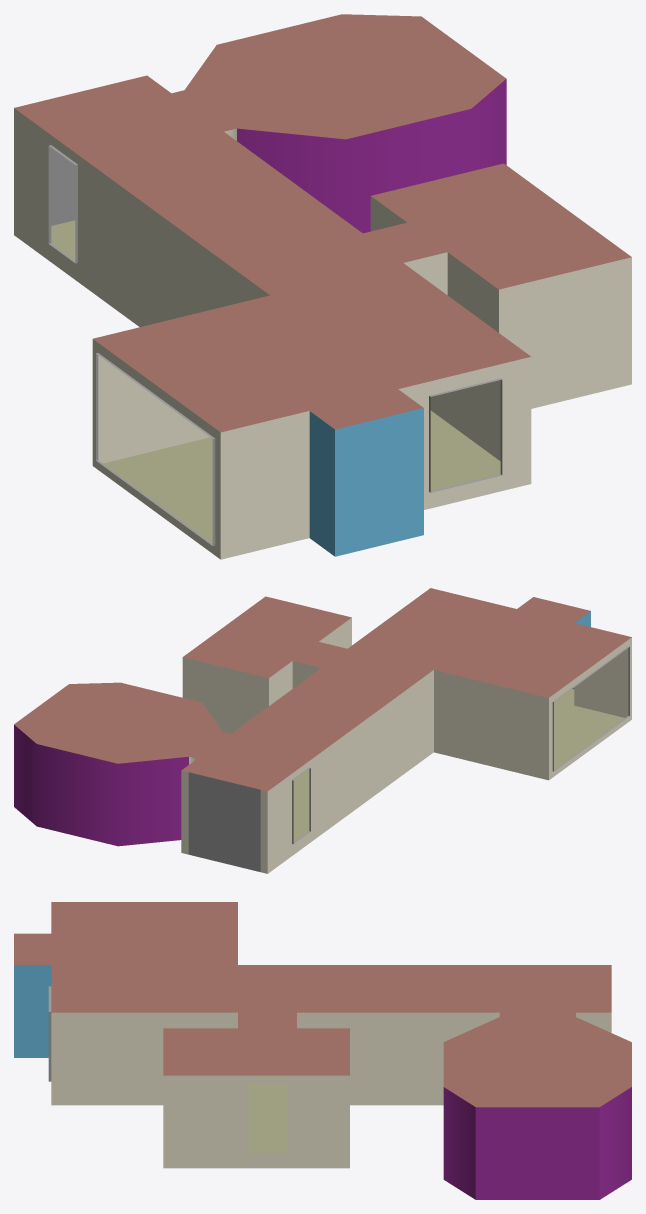
File: Test_Reversed_2_mat_1.fbx
3 views of the same model, one above another, from view 1: azimuth 30°, elevation 25°; view 2: azimuth 150°, elevation 25°; view 3: azimuth 270°, elevation 25° (orthographic). The views are drawn at different scales.
Parts seen in each view (by area): view 1: pCube2; view 2: pCube2; view 3: pCube2.
Boxes of the visible parts, x1=… form: pCube2: x1=14, y1=14, x2=631, y2=559; pCube2: x1=14, y1=588, x2=631, y2=873; pCube2: x1=14, y1=902, x2=631, y2=1199.
Bounding box in the file's own units: 13.05 × 2.74 × 16.55.
